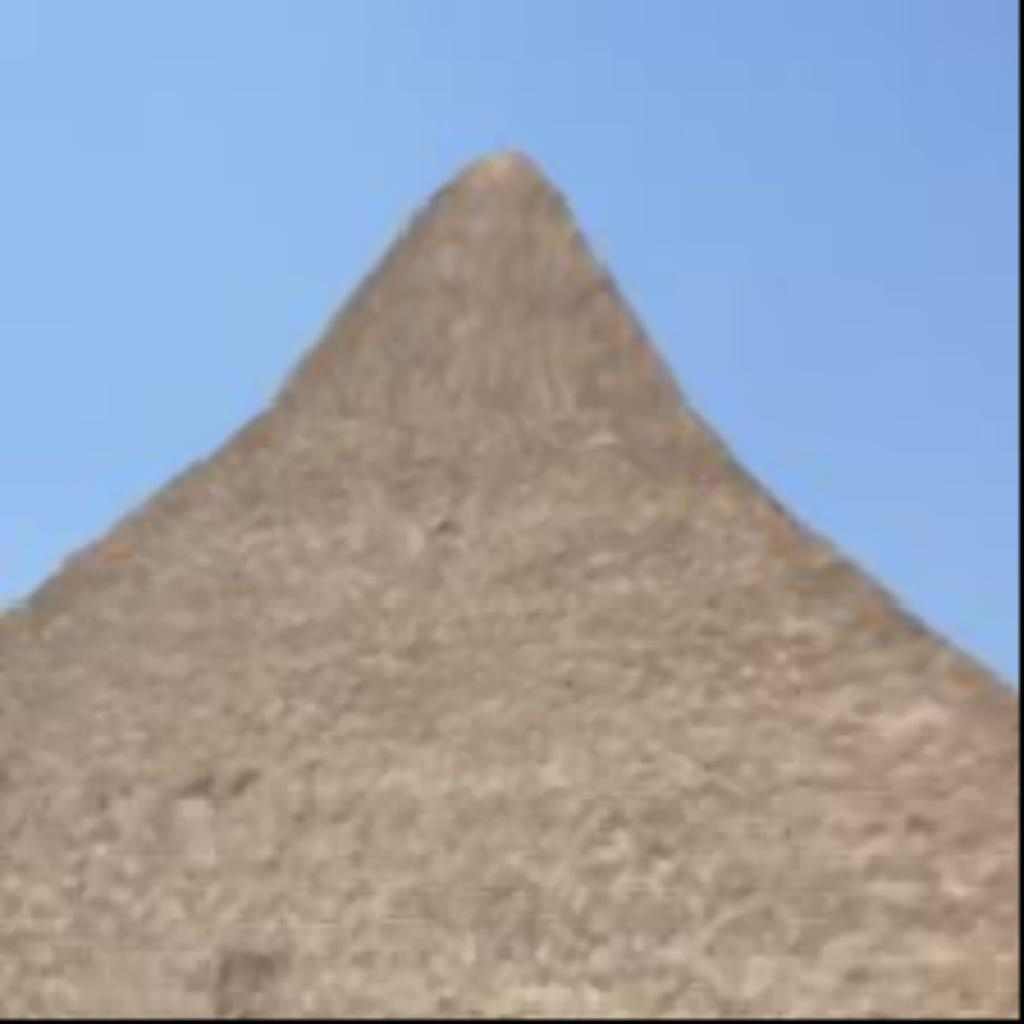Great Pyramids of Giza: (0, 142, 1015, 1015)
